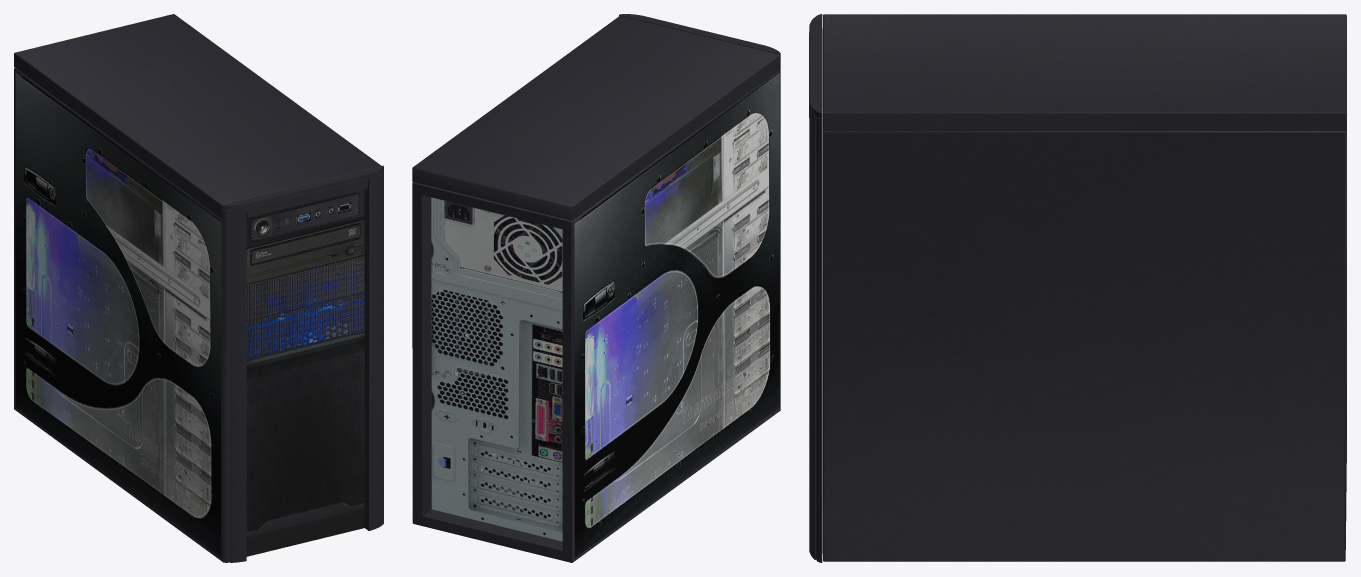
The model's file is Computer.FBX.
The picture shows the model from 3 angles, left to right: view 1: azimuth 30°, elevation 25°; view 2: azimuth 150°, elevation 25°; view 3: azimuth 270°, elevation 25°; orthographic projection. The views are drawn at different scales.
Parts seen in each view (by area): view 1: Computer; view 2: Computer; view 3: Computer.
Part boxes in pixels (box(x1,y1,x2,y2)): Computer: box(14, 14, 383, 562); Computer: box(412, 14, 780, 562); Computer: box(809, 14, 1346, 562).
Bounding box in the file's own units: 200 × 457 × 422.
1 material, 1 textured.
